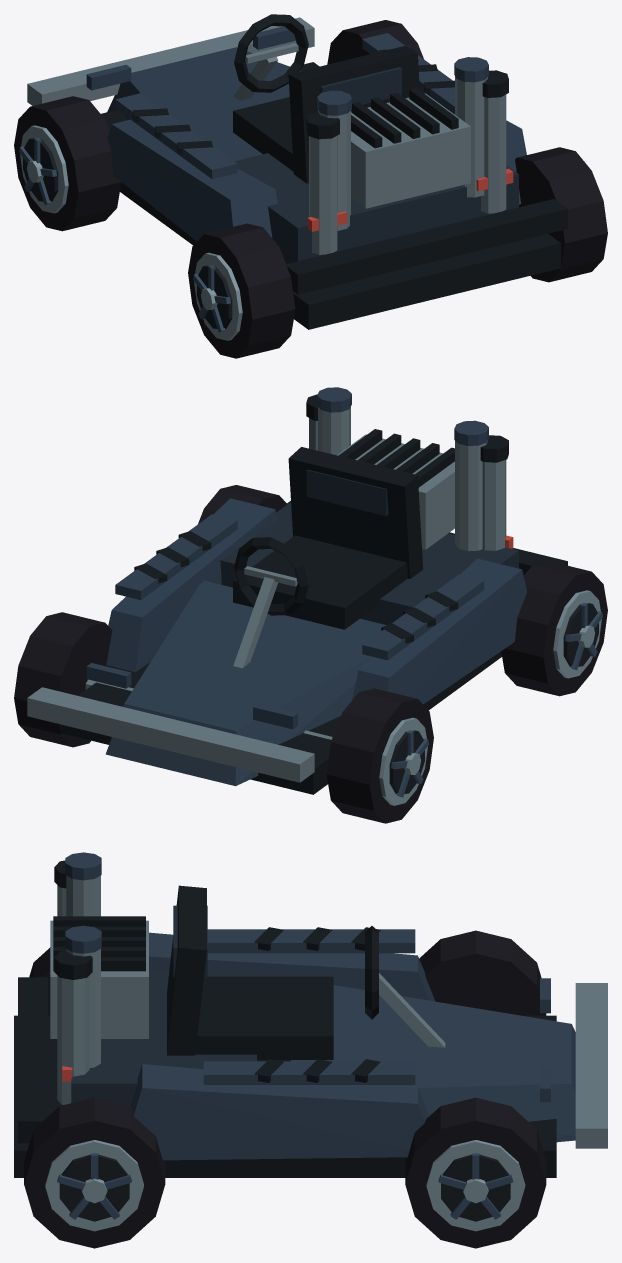
Rendered from kart.glb.
3 views of the same model, one above another, from view 1: azimuth 30°, elevation 25°; view 2: azimuth 150°, elevation 25°; view 3: azimuth 270°, elevation 25° (orthographic). The views are drawn at different scales.
Visible parts, largest first — view 1: chassis, wheel-rear-left, wheel-front-left, wheel-rear-right, wheel-front-right; view 2: chassis, wheel-front-left, wheel-rear-left, wheel-front-right, wheel-rear-right; view 3: chassis, wheel-front-right, wheel-rear-right, wheel-front-left, wheel-rear-left.
Part boxes in pixels (bbox=[...]): chassis: bbox=[27, 14, 567, 329]; wheel-rear-left: bbox=[188, 223, 295, 358]; wheel-front-left: bbox=[14, 96, 121, 231]; wheel-rear-right: bbox=[515, 147, 607, 282]; wheel-front-right: bbox=[327, 20, 423, 64]; chassis: bbox=[27, 387, 567, 794]; wheel-front-left: bbox=[326, 688, 433, 823]; wheel-rear-left: bbox=[501, 561, 607, 696]; wheel-front-right: bbox=[14, 612, 115, 747]; wheel-rear-right: bbox=[198, 485, 286, 523]; chassis: bbox=[14, 852, 607, 1177]; wheel-front-right: bbox=[405, 1097, 546, 1248]; wheel-rear-right: bbox=[24, 1097, 165, 1248]; wheel-front-left: bbox=[419, 930, 546, 1015]; wheel-rear-left: bbox=[29, 947, 50, 1015].
Bounding box in the file's own units: 2.4 × 1.4 × 2.95.
